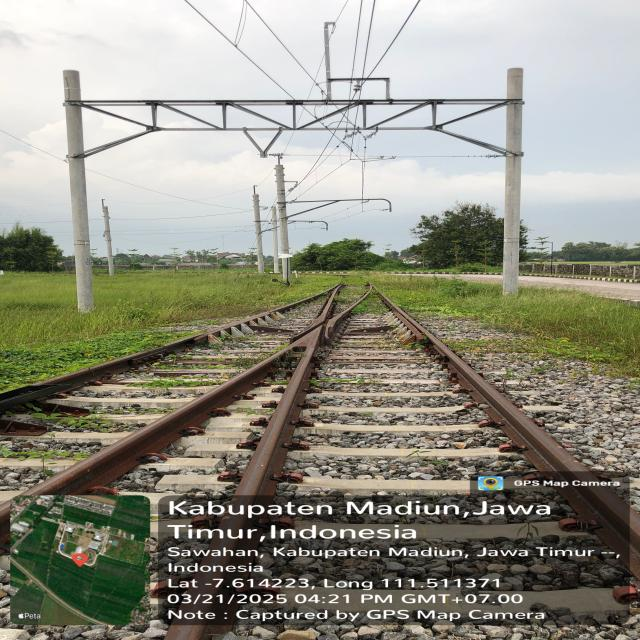rail-detection: (381, 294, 640, 577), (21, 318, 328, 511), (0, 333, 211, 411), (166, 570, 237, 640), (210, 533, 259, 568)
